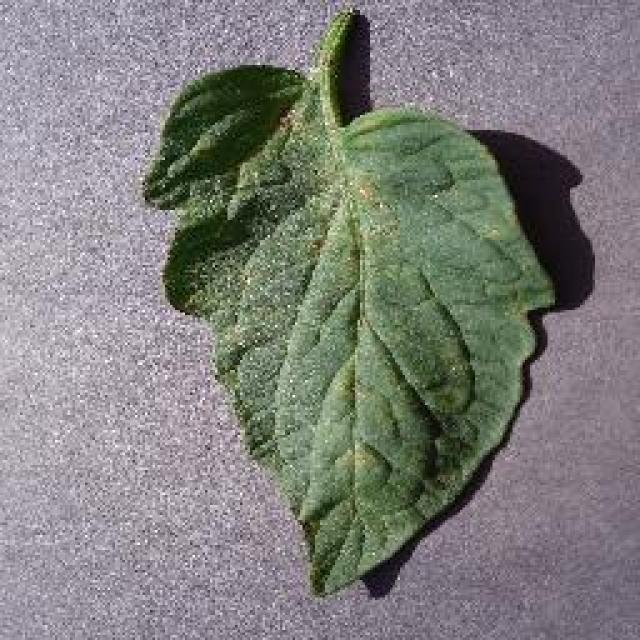Tomato___Target_Spot: (142, 10, 552, 592)
